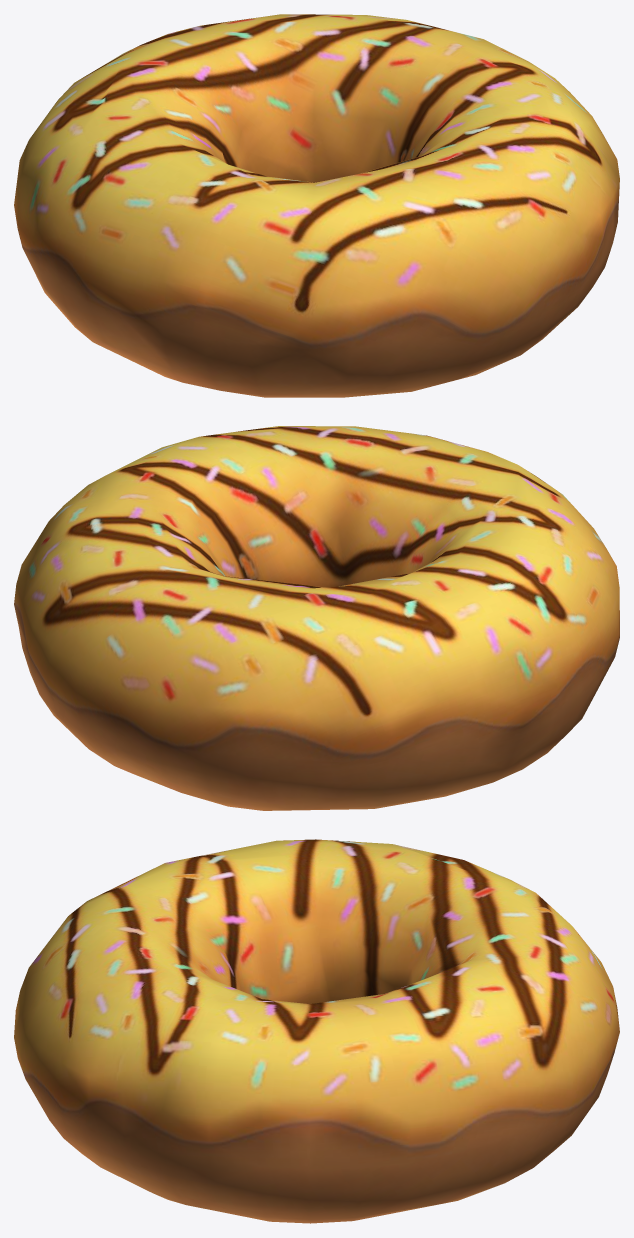
File: OBS0110265.fbx
3 renders of one model, top to bottom at view 1: azimuth 30°, elevation 25°; view 2: azimuth 150°, elevation 25°; view 3: azimuth 270°, elevation 25°, orthographic.
Parts seen in each view (by area): view 1: smOBS0110265; view 2: smOBS0110265; view 3: smOBS0110265.
Part boxes in pixels (x1=…): smOBS0110265: x1=14, y1=14, x2=619, y2=397; smOBS0110265: x1=14, y1=426, x2=619, y2=810; smOBS0110265: x1=14, y1=839, x2=619, y2=1223.
Size of the model in its own units: 50.65 by 19.18 by 51.42.
1 material, 1 textured.
